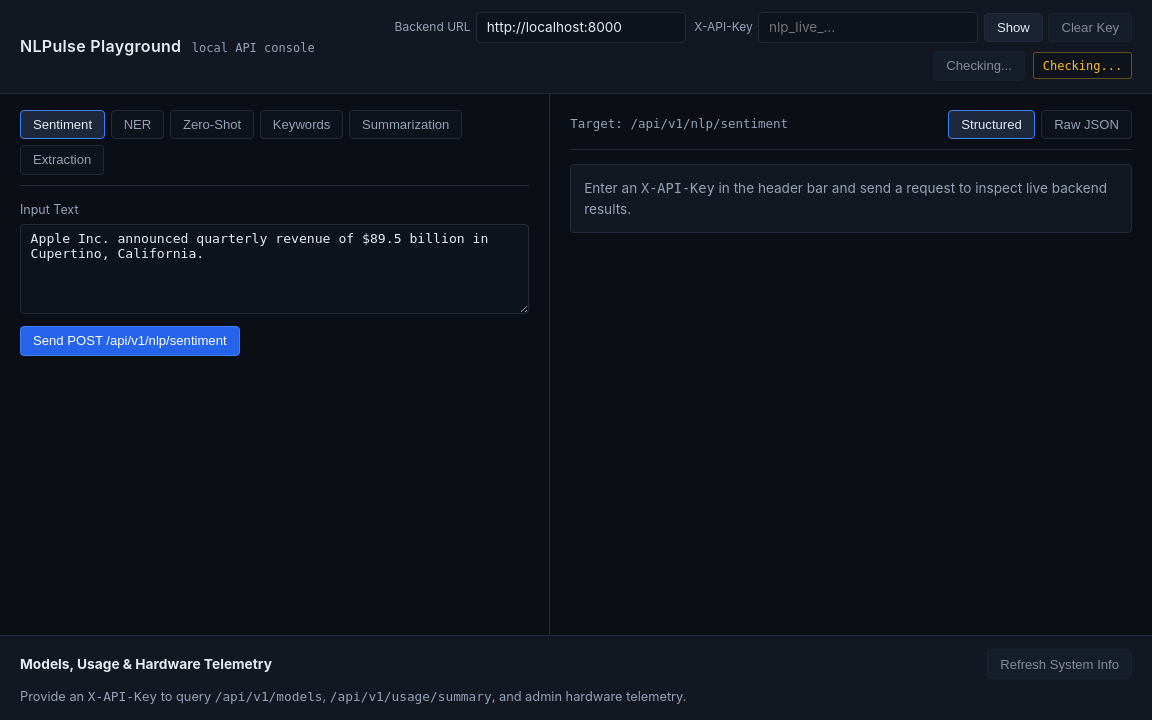
Scenario: NLPulse Playground App › switches capability tabs and surfaces real backend API errors cleanly
Click the tab "Extraction": (62,160) x1=20 y1=145 x2=104 y2=175
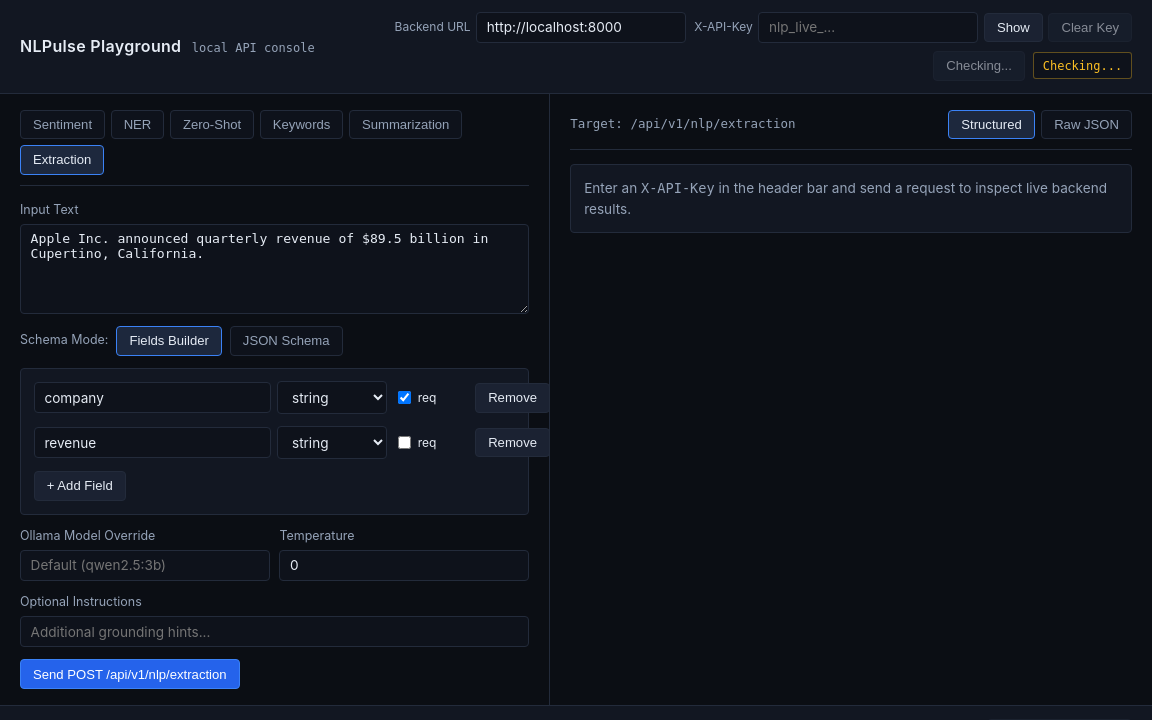
Click the button "Send POST /api/v1/nlp/extraction": (130,674) x1=20 y1=659 x2=240 y2=689
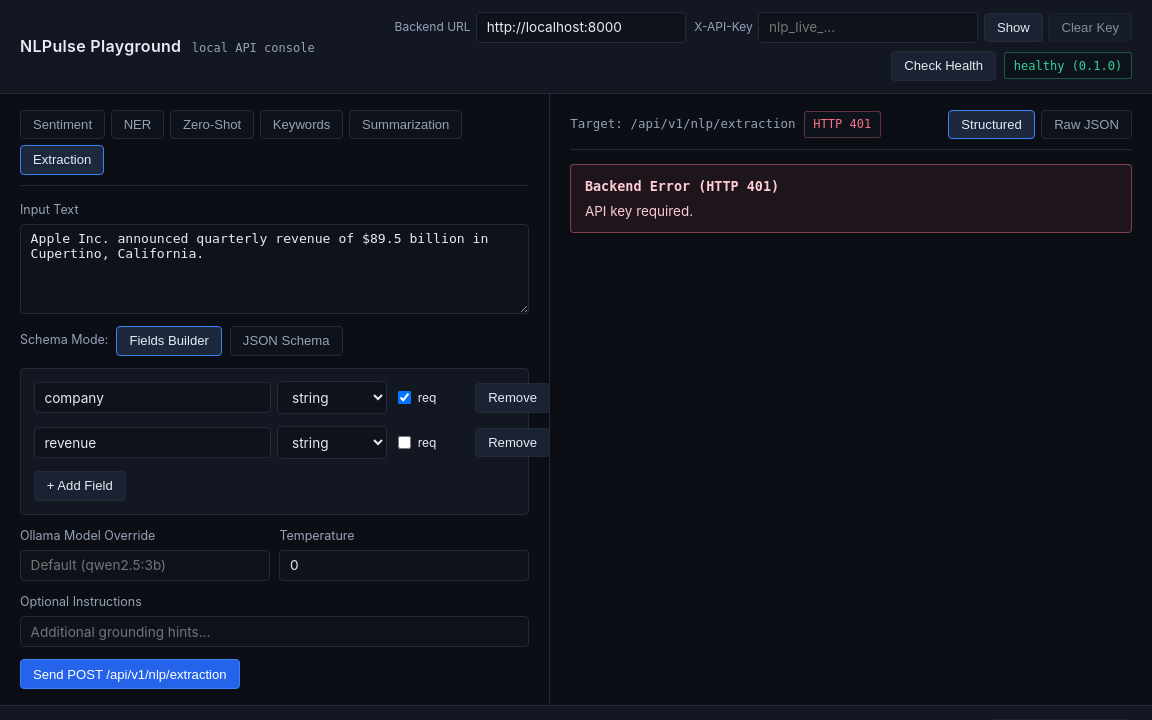
Expected: the message shows "Backend Error (HTTP 401)", x1=570 y1=164 x2=1132 y2=233
Expected: the message shows "API key required.", x1=585 y1=203 x2=693 y2=219
